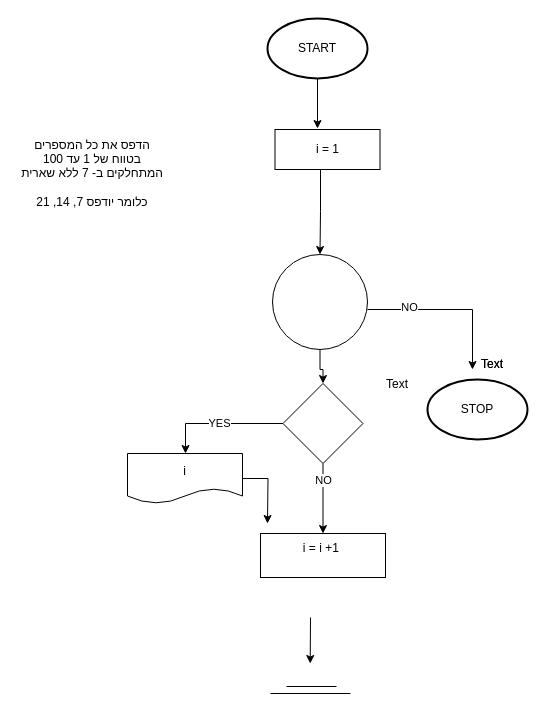
This 545x712 diagram has some shape labels left out. The centre of each missing label's shape, as x and y in pixels:
"i % 7 == 0" belongs at (322,423).
"while i <= 100" belongs at (320,302).
